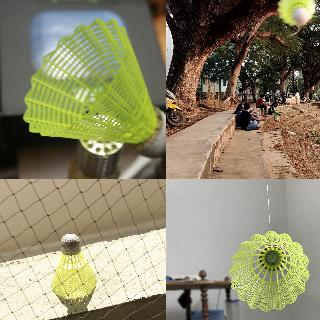shuttlecock: (23, 18, 165, 158), (229, 230, 309, 312), (51, 233, 97, 297), (276, 0, 316, 24)
